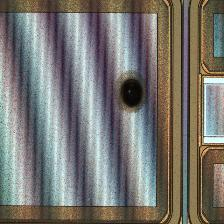PO CONTAMINATION: (113, 72, 152, 119)
